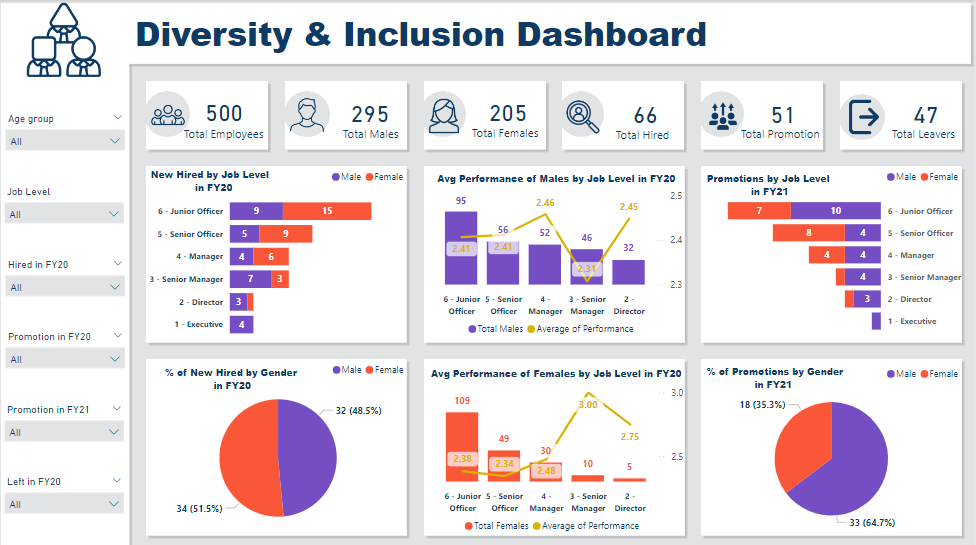

The page's visual inventory and layout, read from the dashboard file:
{"tool":"powerbi","page":{"name":"Page 2","canvas":[1280,720],"ordinal":1},"visuals":[{"type":"card","fields":{"Values":["Pharma Group AG.Total Male"]},"box":[10.1,0,188.1,141.1],"z":0},{"type":"card","fields":{"Values":["Pharma Group AG.Total Female"]},"box":[198.2,0,188.1,141.1],"z":1000},{"type":"card","fields":{"Values":["CountNonNull(Pharma Group AG.Employee ID)"]},"box":[386,0,188,142],"z":2000},{"type":"card","fields":{"Values":["Pharma Group AG.Total Leavers"]},"box":[574,0,172,142],"z":3000},{"type":"card","fields":{"Values":["CountNonNull(Pharma Group AG.Promotion in FY21?)"]},"box":[746,0,188,150],"z":4000},{"type":"card","fields":{"Values":["CountNonNull(Pharma Group AG.New hire FY20?)"]},"box":[934,0,188,150],"z":5000},{"type":"pieChart","fields":{"Y":["CountNonNull(Pharma Group AG.New hire FY20?)"],"Category":["Pharma Group AG.Gender"]},"box":[56.7,466.7,281.7,191.7],"z":6000},{"type":"clusteredBarChart","fields":{"Y":["CountNonNull(Pharma Group AG.New hire FY20?)"],"Category":["Pharma Group AG.Job Level after FY20 promotions"],"Series":["Pharma Group AG.Gender"]},"box":[61.7,141.7,310,288.3],"z":7000},{"type":"lineClusteredColumnComboChart","fields":{"Category":["Pharma Group AG.Job Level after FY20 promotions"],"Y":["CountNonNull(Pharma Group AG.Employee ID)"],"Y2":["Avg(Pharma Group AG.FY20 Performance Rating)"]},"box":[386,150,410,230],"z":8000},{"type":"lineClusteredColumnComboChart","fields":{"Category":["Pharma Group AG.Job Level after FY20 promotions"],"Y":["CountNonNull(Pharma Group AG.Employee ID)"],"Y2":["Avg(Pharma Group AG.FY20 Performance Rating)"]},"box":[386,400,410,300],"z":9000},{"type":"pieChart","fields":{"Category":["Pharma Group AG.Gender"],"Y":["CountNonNull(Pharma Group AG.Promotion in FY21?)"]},"box":[823.3,466.7,178.3,233.3],"z":10000},{"type":"clusteredBarChart","fields":{"Category":["Pharma Group AG.Job Level after FY20 promotions"],"Y":["CountNonNull(Pharma Group AG.Leaver FY)"],"Series":["Pharma Group AG.Gender"]},"box":[796.7,153.3,231.7,276.7],"z":11000},{"type":"slicer","fields":{"Values":["Pharma Group AG.Job Level after FY20 promotions"]},"box":[1038.3,153.3,233.3,206.7],"z":12000},{"type":"slicer","fields":{"Values":["Pharma Group AG.FY20 leaver?"]},"box":[1055,360,200,83.3],"z":13000},{"type":"slicer","fields":{"Values":["Pharma Group AG.Promotion in FY20?"]},"box":[1055,443.3,200,83.3],"z":14000},{"type":"slicer","fields":{"Values":["Pharma Group AG.Promotion in FY21?"]},"box":[1055,526.7,181.7,83.3],"z":15000},{"type":"slicer","fields":{"Values":["Pharma Group AG.Age group"]},"box":[1122,0,150,150],"z":16000}]}

Visuals, with their boxes in screenshot pixels (x1, y1, x2, y2), scaled from the page's 1280x720 canvas onto the 976x545 screenshot:
card - Pharma Group AG.Total Male: BBox(8, 0, 151, 107)
card - Pharma Group AG.Total Female: BBox(151, 0, 295, 107)
card - CountNonNull(Pharma Group AG.Employee ID): BBox(294, 0, 438, 107)
card - Pharma Group AG.Total Leavers: BBox(438, 0, 569, 107)
card - CountNonNull(Pharma Group AG.Promotion in FY21?): BBox(569, 0, 712, 114)
card - CountNonNull(Pharma Group AG.New hire FY20?): BBox(712, 0, 856, 114)
pieChart - CountNonNull(Pharma Group AG.New hire FY20?) x Pharma Group AG.Gender: BBox(43, 353, 258, 498)
clusteredBarChart - CountNonNull(Pharma Group AG.New hire FY20?) x Pharma Group AG.Job Level after FY20 promotions: BBox(47, 107, 283, 325)
lineClusteredColumnComboChart - Pharma Group AG.Job Level after FY20 promotions x CountNonNull(Pharma Group AG.Employee ID): BBox(294, 114, 607, 288)
lineClusteredColumnComboChart - Pharma Group AG.Job Level after FY20 promotions x CountNonNull(Pharma Group AG.Employee ID): BBox(294, 303, 607, 530)
pieChart - Pharma Group AG.Gender x CountNonNull(Pharma Group AG.Promotion in FY21?): BBox(628, 353, 764, 530)
clusteredBarChart - Pharma Group AG.Job Level after FY20 promotions x CountNonNull(Pharma Group AG.Leaver FY): BBox(607, 116, 784, 325)
slicer - Pharma Group AG.Job Level after FY20 promotions: BBox(792, 116, 970, 272)
slicer - Pharma Group AG.FY20 leaver?: BBox(804, 272, 957, 336)
slicer - Pharma Group AG.Promotion in FY20?: BBox(804, 336, 957, 399)
slicer - Pharma Group AG.Promotion in FY21?: BBox(804, 399, 943, 462)
slicer - Pharma Group AG.Age group: BBox(856, 0, 970, 114)
